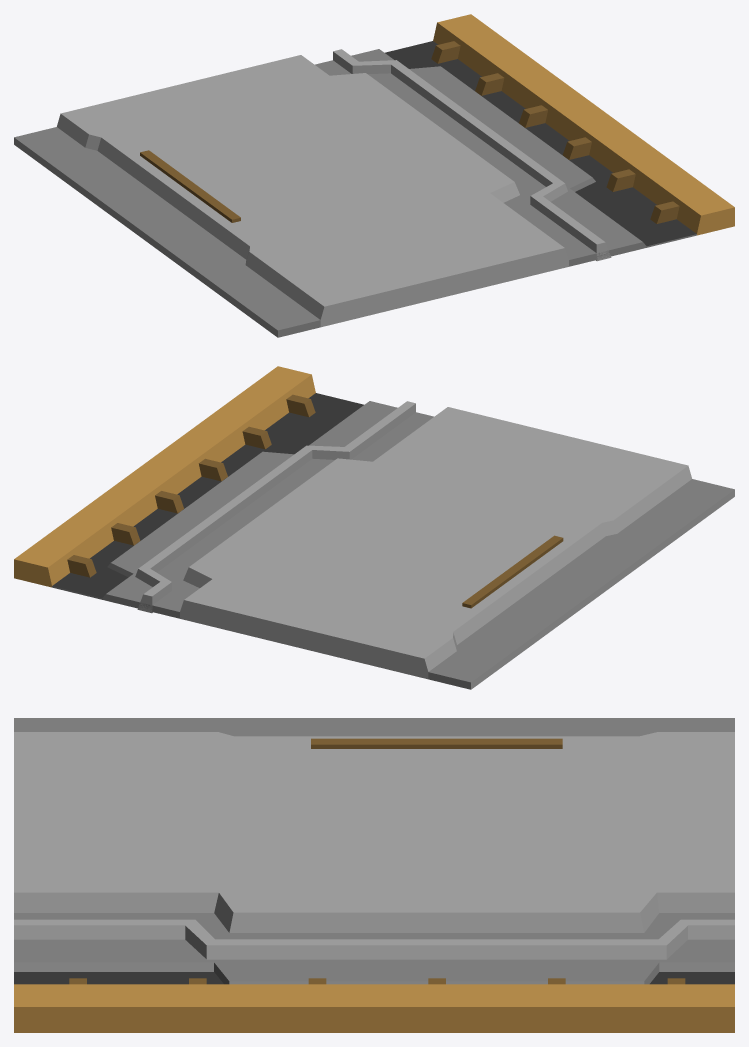
Rendered from floortile_side.142_lev3.glb.
3 renders of one model, top to bottom at view 1: azimuth 30°, elevation 25°; view 2: azimuth 150°, elevation 25°; view 3: azimuth 270°, elevation 25°, orthographic. The views are drawn at different scales.
Parts seen in each view (by area): view 1: floortile_side.142_lev3; view 2: floortile_side.142_lev3; view 3: floortile_side.142_lev3.
Boxes of the visible parts, left/top/right/bottom form: floortile_side.142_lev3: left=14, top=14, right=734, bottom=337; floortile_side.142_lev3: left=14, top=366, right=734, bottom=689; floortile_side.142_lev3: left=14, top=718, right=734, bottom=1032.
Bounding box in the file's own units: 2 × 0.1369 × 2.
